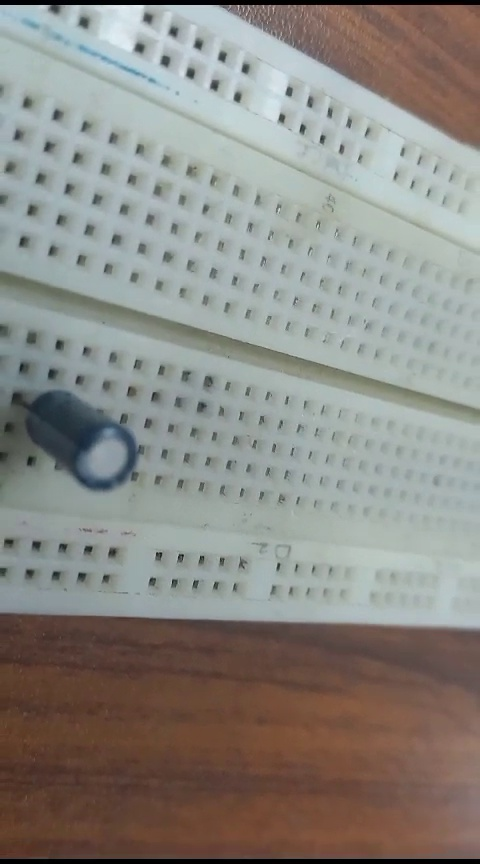capacitor: (20, 368, 138, 504)
